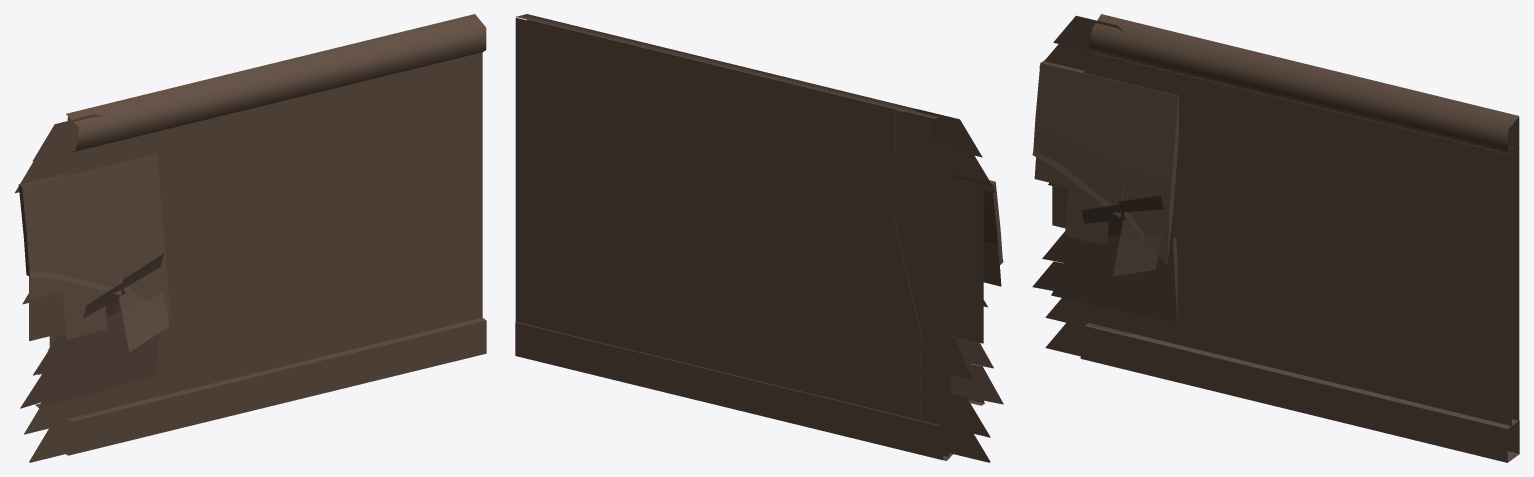
File: DBK_Molding_Bottom_End_B_Mirror.fbx
3 views of the same model, side by side, from view 1: azimuth 30°, elevation 25°; view 2: azimuth 150°, elevation 25°; view 3: azimuth 330°, elevation 25° (orthographic). The views are drawn at different scales.
Parts seen in each view (by area): view 1: DBK_Molding_Bottom_End_B_Mirror; view 2: DBK_Molding_Bottom_End_B_Mirror; view 3: DBK_Molding_Bottom_End_B_Mirror.
Boxes of the visible parts, box(x1,y1,x2,y2) form: DBK_Molding_Bottom_End_B_Mirror: box(15, 14, 486, 462); DBK_Molding_Bottom_End_B_Mirror: box(515, 14, 1003, 462); DBK_Molding_Bottom_End_B_Mirror: box(1032, 14, 1519, 462).
Size of the model in its own units: 147 by 100 by 14.6.
